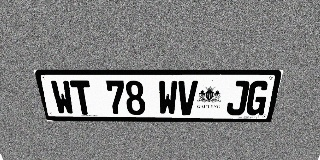7: (104, 80, 127, 115)
8: (125, 80, 145, 115)
G: (245, 81, 271, 115)
J: (226, 81, 250, 115)
T: (70, 80, 94, 115)
V: (177, 80, 198, 115)
W: (50, 80, 75, 115), (158, 80, 178, 115)
